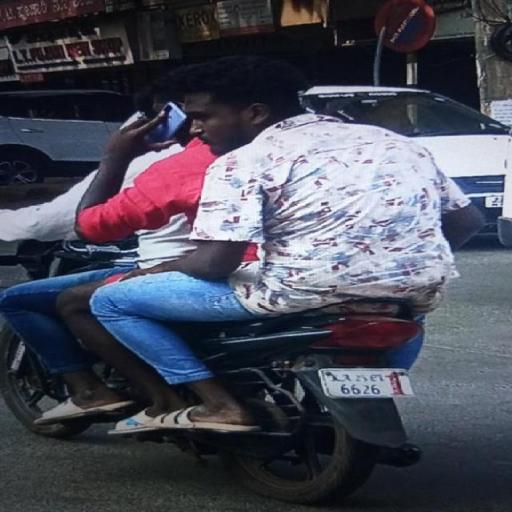tripple riding: (2, 48, 486, 346)
